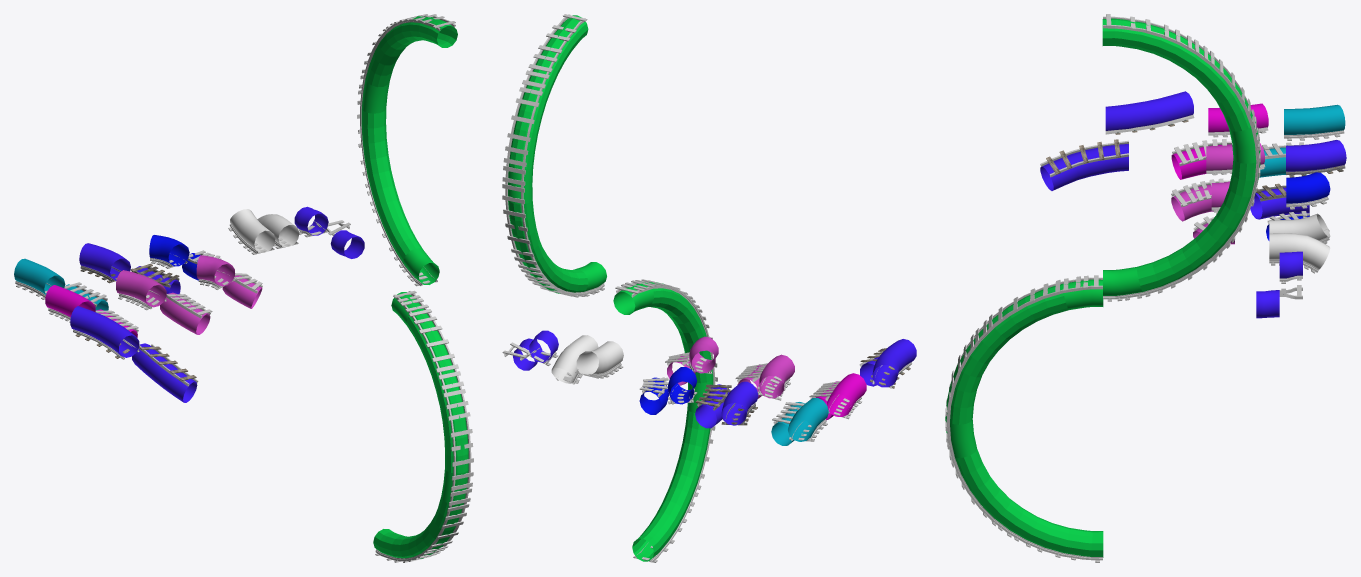
File: Railparts0506.FBX
3 views of the same model, side by side, from view 1: azimuth 30°, elevation 25°; view 2: azimuth 150°, elevation 25°; view 3: azimuth 270°, elevation 25° (orthographic). The views are drawn at different scales.
Visible parts, largest first — view 1: Cylinder047, Cylinder061, rail stright115, Cylinder066, rail stright107, Cylinder072, Cylinder064, Cylinder057, Cylinder009, Cylinder056, Cylinder040, Cylinder058 (+7 smaller); view 2: Cylinder061, Cylinder047, rail stright107, rail stright115, Cylinder066, Cylinder009, Cylinder056, Cylinder057, Cylinder058, Cylinder010, Cylinder064, Cylinder062 (+4 smaller); view 3: Cylinder047, Cylinder061, rail stright115, rail stright107, Cylinder066, Cylinder072, Cylinder056, Cylinder057, Cylinder010, Cylinder062, Cylinder009, rail stright147 (+10 smaller).
Boxes of the visible parts, box(x1,y1,x2,y2) form: Cylinder047: box(361, 16, 457, 284); Cylinder061: box(373, 292, 468, 558); rail stright115: box(375, 290, 473, 562); Cylinder066: box(70, 306, 139, 357); rail stright107: box(357, 14, 455, 286); Cylinder072: box(132, 343, 197, 402); Cylinder064: box(116, 270, 166, 307); Cylinder057: box(79, 243, 130, 280); Cylinder009: box(230, 209, 275, 252); Cylinder056: box(14, 258, 65, 294); Cylinder040: box(160, 292, 210, 334); Cylinder058: box(45, 285, 95, 317); Cylinder061: box(613, 282, 713, 561); Cylinder047: box(508, 15, 606, 293); rail stright107: box(502, 14, 604, 297); rail stright115: box(615, 279, 717, 562); Cylinder066: box(872, 339, 916, 387); Cylinder009: box(576, 341, 623, 375); Cylinder056: box(788, 398, 828, 441); Cylinder057: box(721, 381, 758, 425); Cylinder058: box(827, 373, 866, 416); Cylinder010: box(551, 335, 598, 383); Cylinder064: box(759, 354, 794, 398); Cylinder062: box(667, 367, 696, 404); Cylinder047: box(1102, 18, 1260, 295); Cylinder061: box(945, 279, 1103, 557); rail stright115: box(945, 275, 1102, 562); rail stright107: box(1103, 14, 1260, 301); Cylinder066: box(1105, 91, 1193, 130); Cylinder072: box(1040, 144, 1128, 190); Cylinder056: box(1284, 104, 1345, 134); Cylinder057: box(1286, 140, 1346, 171); Cylinder010: box(1269, 233, 1330, 269); Cylinder062: box(1286, 172, 1330, 203); Cylinder009: box(1269, 213, 1330, 240); rail stright147: box(1040, 139, 1128, 177).
Size of the model in its own units: 2335 by 3224 by 2051.
